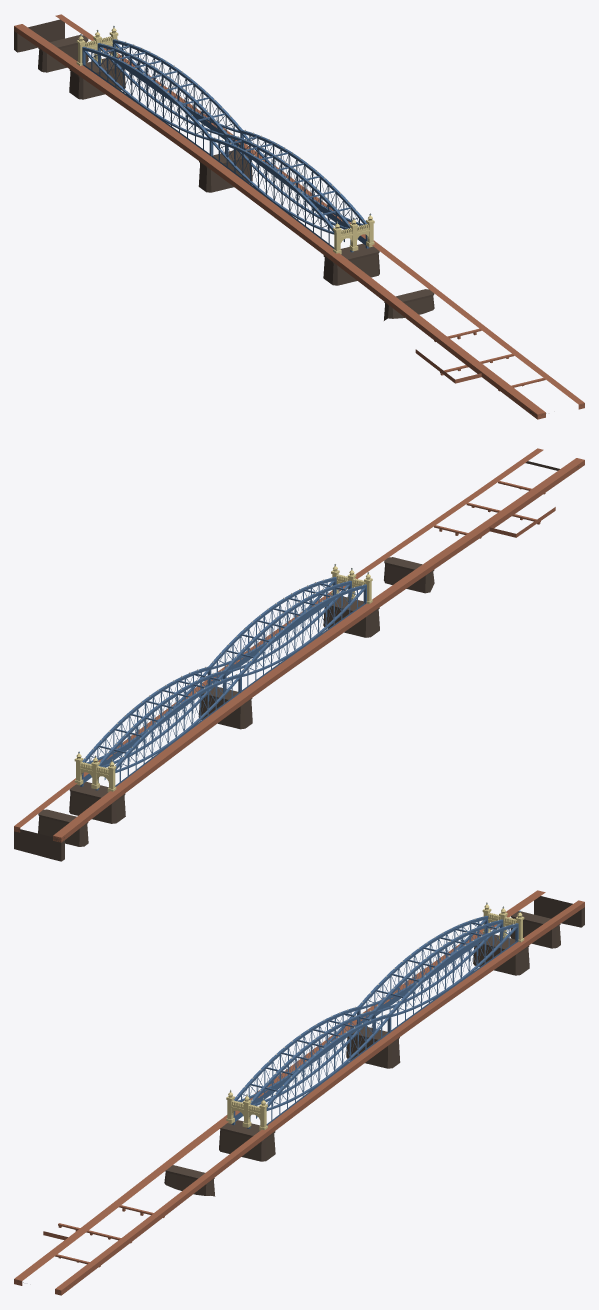
The model's file is pit-smithfield-street-bridge.glb.
The picture shows the model from 3 angles, top to bottom: view 1: azimuth 30°, elevation 25°; view 2: azimuth 150°, elevation 25°; view 3: azimuth 330°, elevation 25°; orthographic projection.
Visible parts, largest first — view 1: Smithfield Street Bridge; view 2: Smithfield Street Bridge; view 3: Smithfield Street Bridge.
Part boxes in pixels (box(x1,y1,x2,y2)): Smithfield Street Bridge: box(14, 14, 584, 419); Smithfield Street Bridge: box(14, 448, 584, 861); Smithfield Street Bridge: box(14, 890, 584, 1295).
Bounding box in the file's own units: 36.8 × 30.96 × 451.
